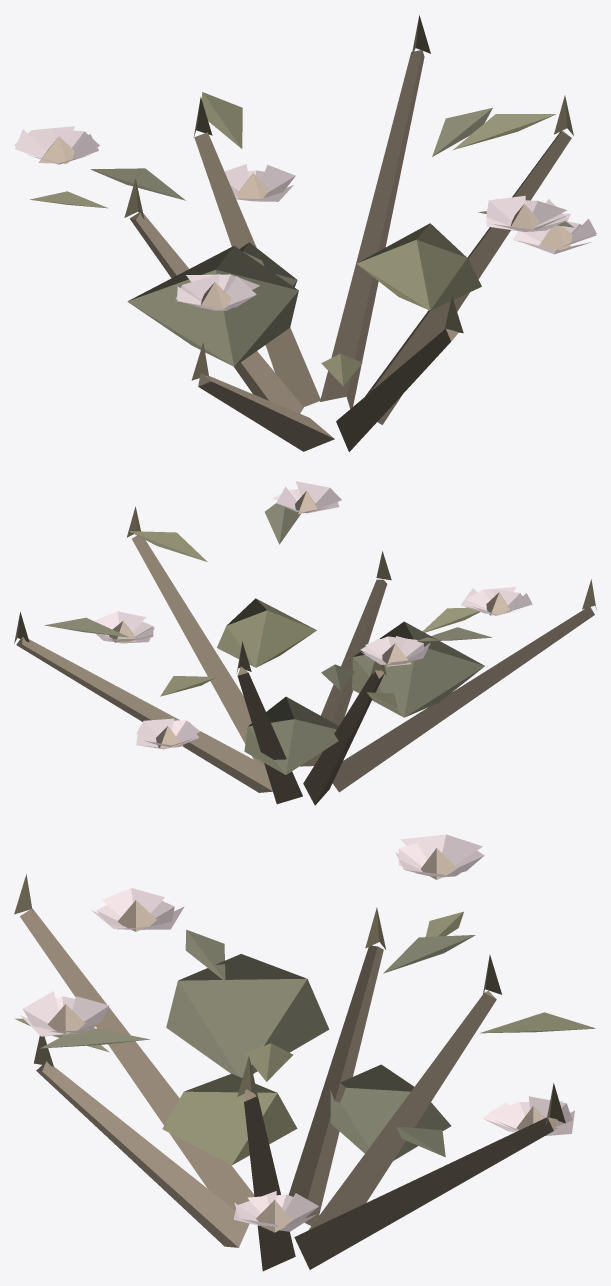
File: cao.hanji__winter.glb
The picture shows the model from 3 angles, top to bottom: view 1: azimuth 30°, elevation 25°; view 2: azimuth 150°, elevation 25°; view 3: azimuth 270°, elevation 25°; orthographic projection. The views are drawn at different scales.
Visible parts, largest first — view 1: cao.hanji__winter; view 2: cao.hanji__winter; view 3: cao.hanji__winter.
Boxes of the visible parts, x1,y1,x2,y2 form: cao.hanji__winter: (14, 15, 596, 451); cao.hanji__winter: (14, 481, 596, 805); cao.hanji__winter: (14, 834, 595, 1271).
Size of the model in its own units: 2.13 by 1.17 by 1.99.
